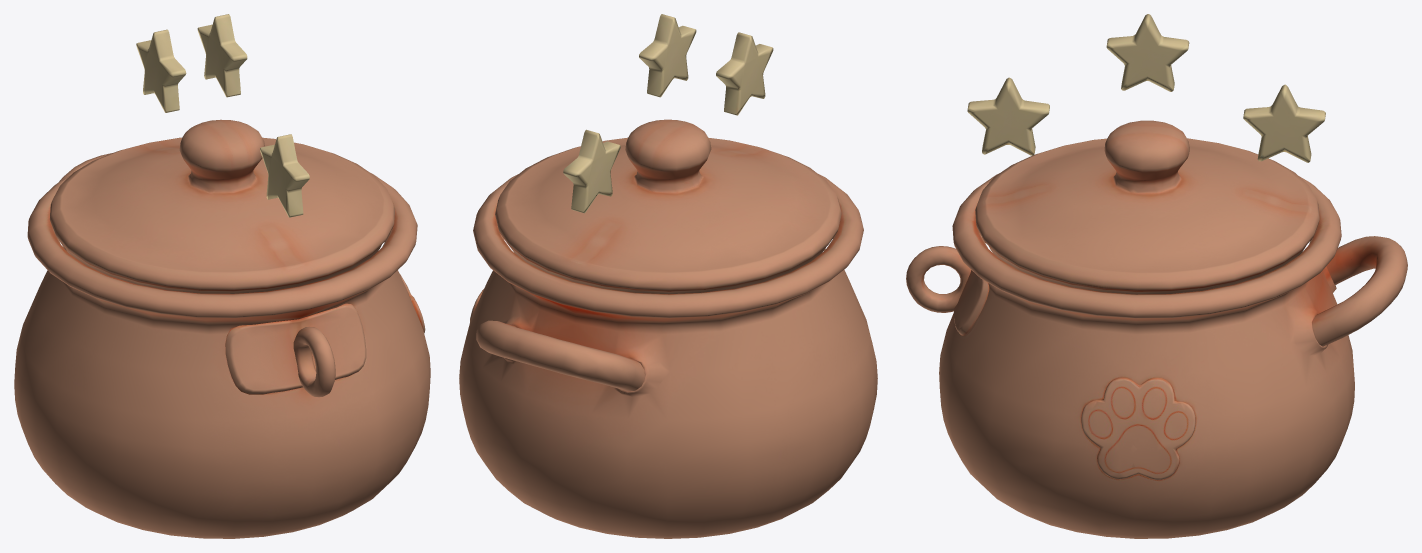
The model's file is three-star-pot.glb.
3 views of the same model, side by side, from view 1: azimuth 30°, elevation 25°; view 2: azimuth 150°, elevation 25°; view 3: azimuth 270°, elevation 25° (orthographic).
Parts seen in each view (by area): view 1: tripo_node_1a6ff336-1be7-46a2-bac8-6c0527220e99; view 2: tripo_node_1a6ff336-1be7-46a2-bac8-6c0527220e99; view 3: tripo_node_1a6ff336-1be7-46a2-bac8-6c0527220e99.
Boxes of the visible parts, bbox=[...] form: tripo_node_1a6ff336-1be7-46a2-bac8-6c0527220e99: bbox=[14, 14, 430, 538]; tripo_node_1a6ff336-1be7-46a2-bac8-6c0527220e99: bbox=[459, 14, 877, 538]; tripo_node_1a6ff336-1be7-46a2-bac8-6c0527220e99: bbox=[906, 14, 1407, 538].
Bounding box in the file's own units: 0.8166 × 0.9995 × 0.9808.
Materials: 1 (1 with a texture image).
